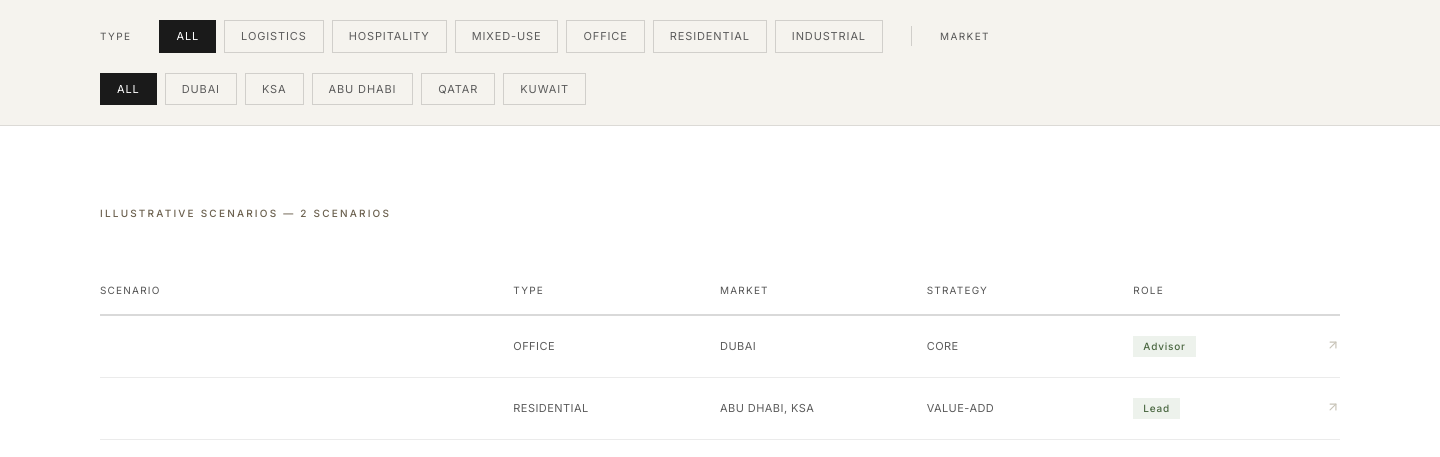
Test case: TransactionsClient › combines type and market filters
Step 1. Click the button "Residential" → (710, 36), box x1=653 y1=20 x2=767 y2=52
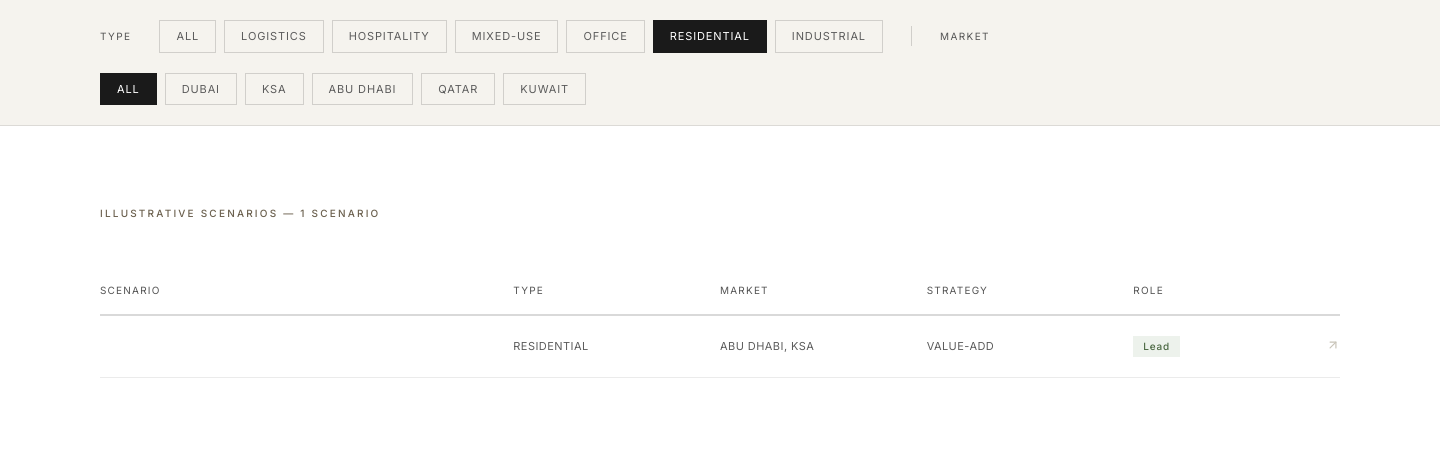
Step 2. Click the button "Dubai" → (201, 89), box x1=165 y1=72 x2=237 y2=105
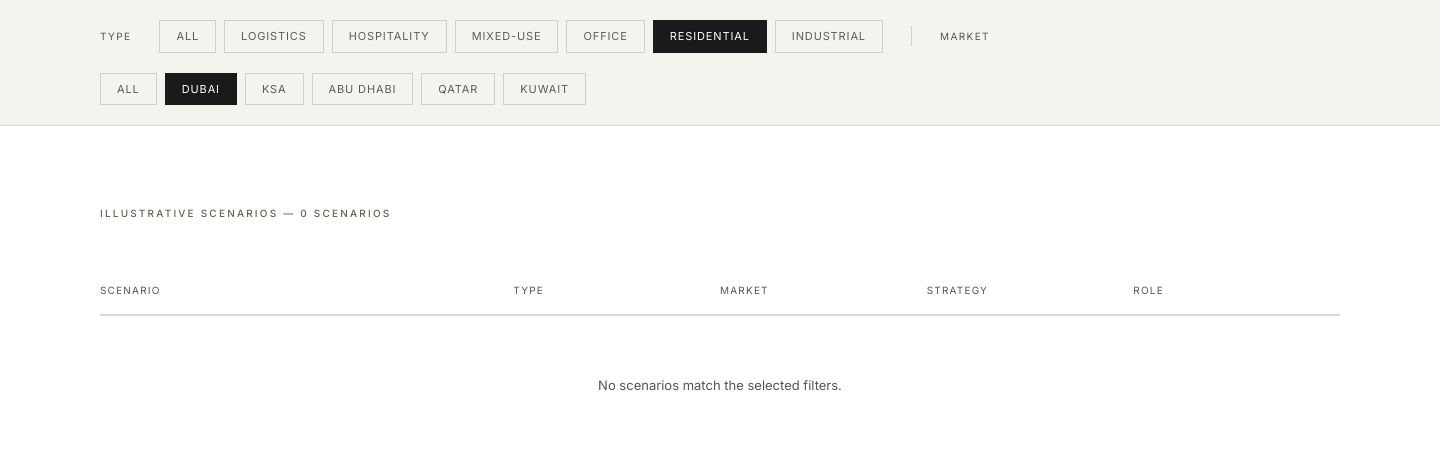
Expected: the text "No scenarios match the selected filters." is shown, x1=598 y1=377 x2=842 y2=393
Expected: the element with test id "transaction-row" is gone
